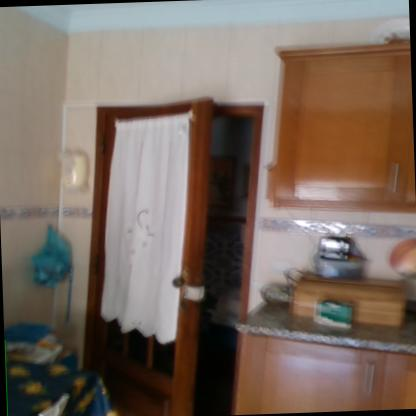semi: (79, 78, 283, 413)
